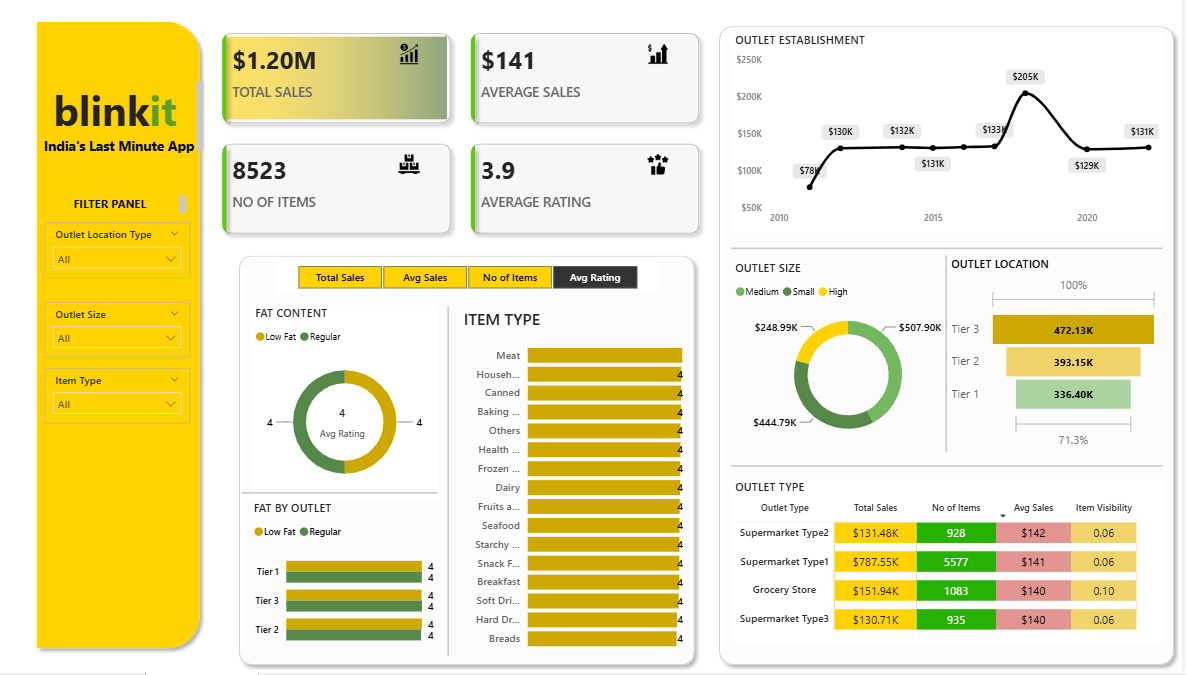

The page's visual inventory and layout, read from the dashboard file:
{"tool":"powerbi","page":{"name":"Page 1","canvas":[1400,800],"ordinal":0},"visuals":[{"type":"shape","box":[42,24,210,756],"z":0},{"type":"textbox","box":[41.7,98.3,210,93.3],"z":1000},{"type":"cardVisual","fields":{"Data":["BlinkIT Grocery Data.Total Sales","BlinkIT Grocery Data.Avg Sales","BlinkIT Grocery Data.No of Items","BlinkIT Grocery Data.Avg Rating"]},"box":[251.7,30,596.7,270],"z":2000},{"type":"shape","box":[280,300,554,500],"z":3000},{"type":"donutChart","title":"FAT CONTENT","fields":{"Y":["BlinkIT Grocery Data.Avg Rating"],"Category":["BlinkIT Grocery Data.Item Fat Content"]},"box":[303.3,366.7,220,230],"z":4000},{"type":"slicer","fields":{"Values":["Metrics.Metrics"]},"box":[333.3,315,448.3,40],"z":5000},{"type":"cardVisual","fields":{"Data":["BlinkIT Grocery Data.Avg Rating"]},"box":[333.3,440,155,131.7],"z":6000},{"type":"clusteredBarChart","title":"FAT BY OUTLET","fields":{"Y":["BlinkIT Grocery Data.Avg Rating"],"Category":["BlinkIT Grocery Data.Outlet Location Type"],"Series":["BlinkIT Grocery Data.Item Fat Content"]},"box":[301.7,596.7,221.7,185],"z":7000},{"type":"shape","box":[293.3,581.7,230,15],"z":8000},{"type":"shape","box":[446.7,368.3,178.3,411.7],"z":9000},{"type":"barChart","title":"ITEM TYPE","fields":{"Y":["BlinkIT Grocery Data.Avg Rating"],"Category":["BlinkIT Grocery Data.Item Type"]},"box":[550,370,268,412],"z":10000},{"type":"shape","box":[846.7,30,553.3,770],"z":11000},{"type":"lineChart","title":"OUTLET ESTABLISHMENT","fields":{"Y":["BlinkIT Grocery Data.Total Sales"],"Category":["BlinkIT Grocery Data.Outlet Establishment Year"]},"box":[868.3,46.7,508.3,235],"z":12000},{"type":"shape","box":[868.3,293.3,508.3,15],"z":13000},{"type":"donutChart","title":"OUTLET SIZE","fields":{"Y":["BlinkIT Grocery Data.Total Sales"],"Category":["BlinkIT Grocery Data.Outlet Size"]},"box":[868.3,315,275,225],"z":14000},{"type":"shape","box":[1033.3,308.3,178.3,231.7],"z":15000},{"type":"funnel","title":"OUTLET LOCATION","fields":{"Y":["Sum(BlinkIT Grocery Data.Sales)"],"Category":["BlinkIT Grocery Data.Outlet Location Type"]},"box":[1123.3,308.3,253.3,231.7],"z":16000},{"type":"shape","box":[868.3,550,508.3,15],"z":17000},{"type":"pivotTable","title":"OUTLET TYPE","fields":{"Rows":["BlinkIT Grocery Data.Outlet Type"],"Values":["BlinkIT Grocery Data.Total Sales","BlinkIT Grocery Data.No of Items","BlinkIT Grocery Data.Avg Sales","Avg(BlinkIT Grocery Data.Item Visibility)"]},"box":[868.3,571.7,508.3,191.7],"z":18000},{"type":"slicer","fields":{"Values":["BlinkIT Grocery Data.Outlet Location Type"]},"box":[60,270,171.7,65],"z":19000},{"type":"slicer","fields":{"Values":["BlinkIT Grocery Data.Outlet Size"]},"box":[60,363.3,171.7,65],"z":20000},{"type":"slicer","fields":{"Values":["BlinkIT Grocery Data.Item Type"]},"box":[60,441.7,171.7,65],"z":21000},{"type":"textbox","box":[90,232.5,142.5,37.5],"z":22000}]}

Visuals, with their boxes in screenshot pixels (x1, y1, x2, y2), scaled from the page's 1400x800 canvas onto the 1186x675 screenshot:
shape: bbox(36, 20, 213, 658)
textbox: bbox(35, 83, 213, 162)
cardVisual - BlinkIT Grocery Data.Total Sales x BlinkIT Grocery Data.Avg Sales: bbox(213, 25, 719, 253)
shape: bbox(237, 253, 707, 674)
"FAT CONTENT" donutChart: bbox(257, 309, 443, 503)
slicer - Metrics.Metrics: bbox(282, 266, 662, 300)
cardVisual - BlinkIT Grocery Data.Avg Rating: bbox(282, 371, 414, 482)
"FAT BY OUTLET" clusteredBarChart: bbox(256, 503, 443, 660)
shape: bbox(248, 491, 443, 503)
shape: bbox(378, 311, 529, 658)
"ITEM TYPE" barChart: bbox(466, 312, 693, 660)
shape: bbox(717, 25, 1185, 674)
"OUTLET ESTABLISHMENT" lineChart: bbox(736, 39, 1166, 238)
shape: bbox(736, 247, 1166, 260)
"OUTLET SIZE" donutChart: bbox(736, 266, 969, 456)
shape: bbox(875, 260, 1026, 456)
"OUTLET LOCATION" funnel: bbox(952, 260, 1166, 456)
shape: bbox(736, 464, 1166, 477)
"OUTLET TYPE" pivotTable: bbox(736, 482, 1166, 644)
slicer - BlinkIT Grocery Data.Outlet Location Type: bbox(51, 228, 196, 283)
slicer - BlinkIT Grocery Data.Outlet Size: bbox(51, 307, 196, 361)
slicer - BlinkIT Grocery Data.Item Type: bbox(51, 373, 196, 428)
textbox: bbox(76, 196, 197, 228)
